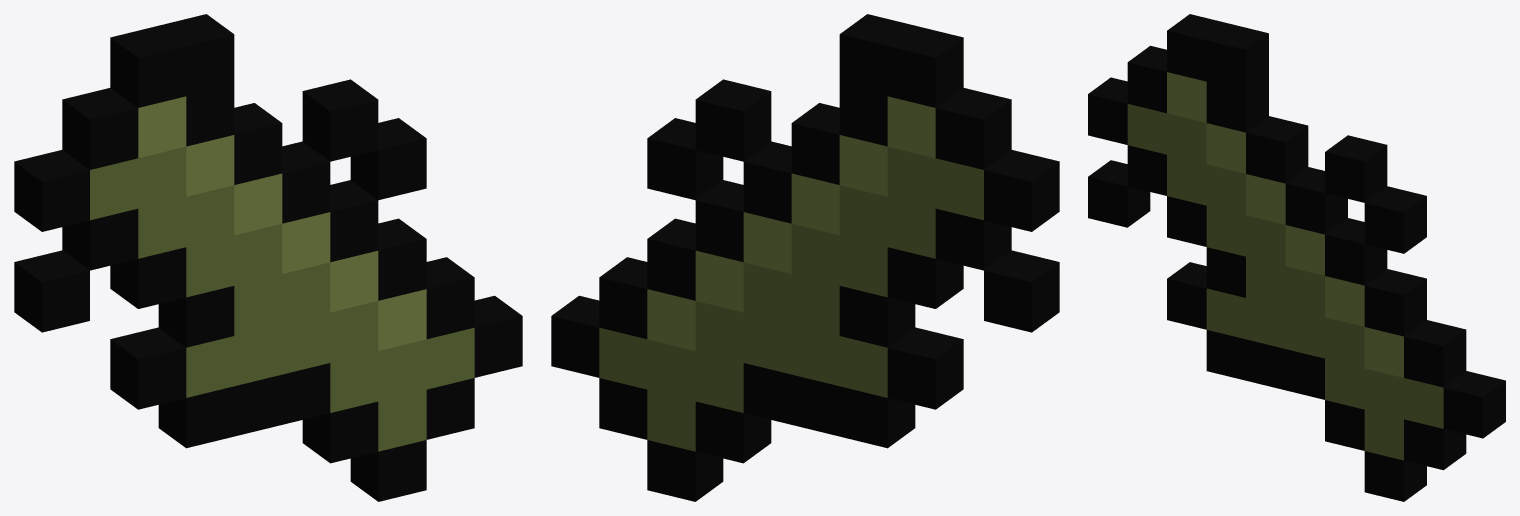
The model's file is Obby RPG.glb.
3 renders of one model, left to right at view 1: azimuth 30°, elevation 25°; view 2: azimuth 150°, elevation 25°; view 3: azimuth 330°, elevation 25°, orthographic. The views are drawn at different scales.
Parts seen in each view (by area): view 1: generated(Clone); view 2: generated(Clone); view 3: generated(Clone).
Boxes of the visible parts, x1,y1,x2,y2 form: generated(Clone): [14, 14, 522, 501]; generated(Clone): [551, 14, 1059, 501]; generated(Clone): [1088, 14, 1505, 501].
Size of the model in its own units: 10 by 10 by 1.
1 material, 1 textured.
